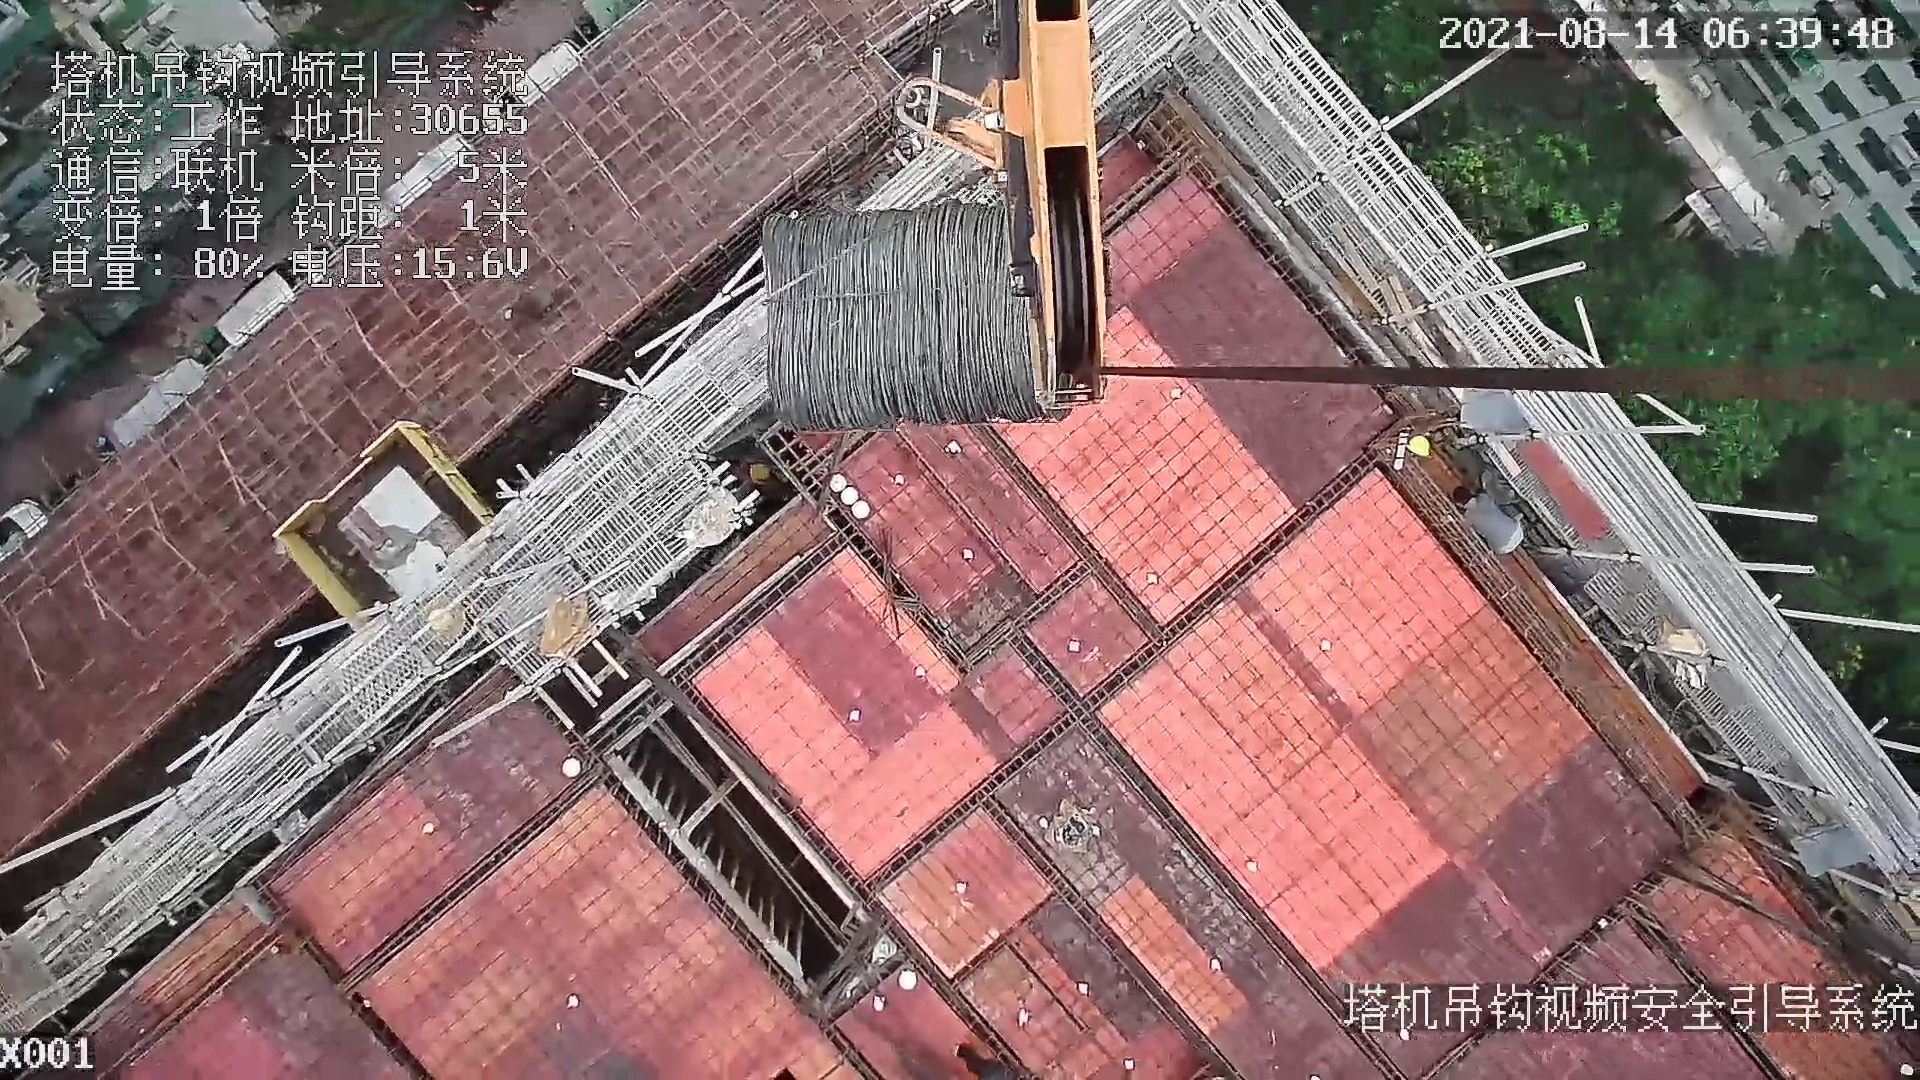hook: (890, 3, 1110, 409)
person: (1454, 482, 1536, 558)
